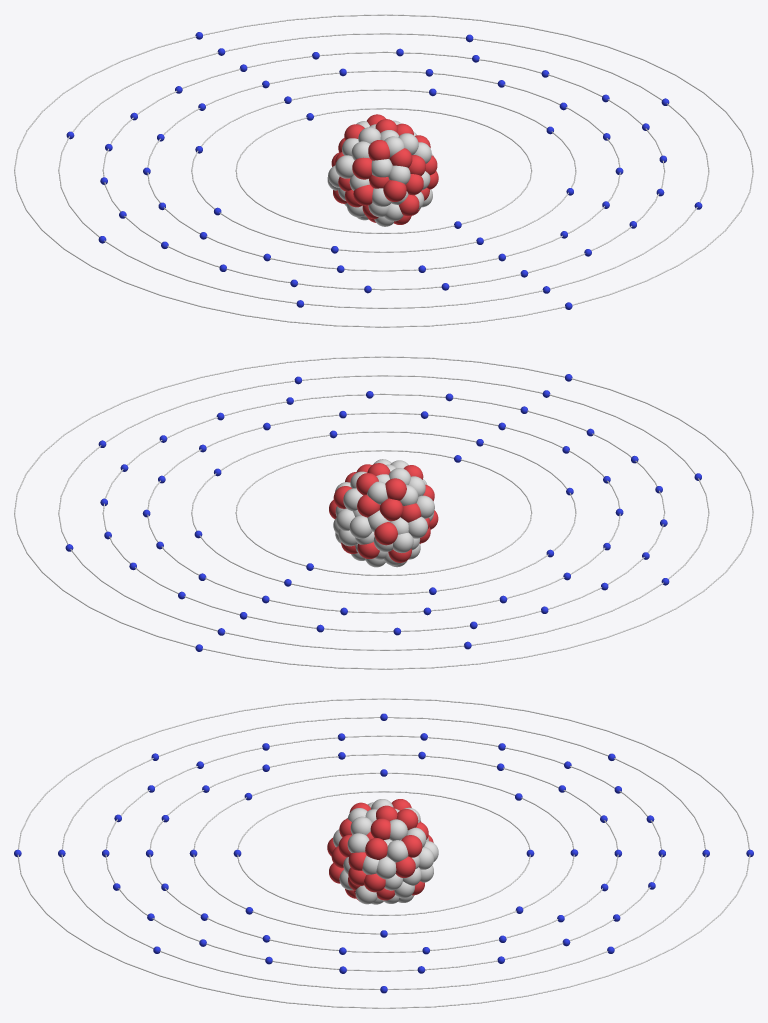
The model's file is Neodym.glb.
3 renders of one model, top to bottom at view 1: azimuth 30°, elevation 25°; view 2: azimuth 150°, elevation 25°; view 3: azimuth 270°, elevation 25°, orthographic.
Parts seen in each view (by area): view 1: P-Schale, O-Schale, N-Schale, M-Schale, L-Schale, K-Schale; view 2: P-Schale, O-Schale, N-Schale, M-Schale, L-Schale, K-Schale; view 3: P-Schale, O-Schale, N-Schale, M-Schale, L-Schale, K-Schale.
Part boxes in pixels (bbox=[...]): P-Schale: bbox=[14, 14, 753, 327]; O-Schale: bbox=[58, 33, 709, 308]; N-Schale: bbox=[102, 51, 665, 290]; M-Schale: bbox=[147, 70, 620, 271]; L-Schale: bbox=[191, 89, 576, 252]; K-Schale: bbox=[235, 108, 532, 233]; P-Schale: bbox=[14, 356, 753, 669]; O-Schale: bbox=[58, 375, 709, 650]; N-Schale: bbox=[102, 393, 665, 632]; M-Schale: bbox=[147, 412, 620, 613]; L-Schale: bbox=[191, 431, 576, 594]; K-Schale: bbox=[235, 450, 532, 575]; P-Schale: bbox=[17, 698, 750, 1008]; O-Schale: bbox=[61, 717, 706, 989]; N-Schale: bbox=[105, 735, 662, 971]; M-Schale: bbox=[149, 754, 618, 952]; L-Schale: bbox=[193, 772, 574, 934]; K-Schale: bbox=[237, 791, 530, 915].
Size of the model in its own units: 25.04 by 3.61 by 25.26.
